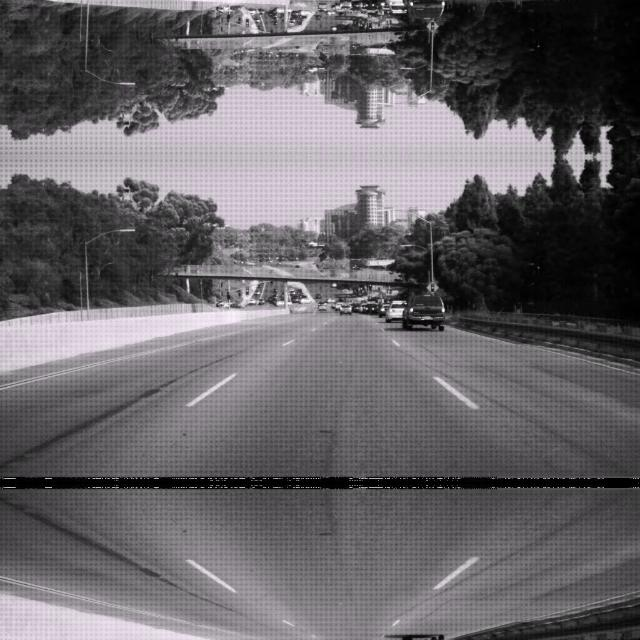signalAhead: (425, 279, 439, 293), (425, 19, 439, 33), (240, 283, 253, 295), (240, 17, 253, 29), (366, 272, 372, 278), (366, 34, 372, 40)
